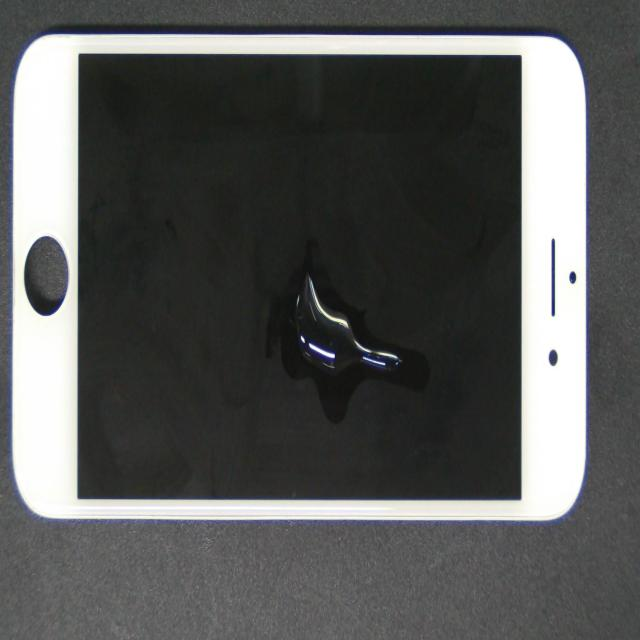oil: (262, 255, 448, 431)
